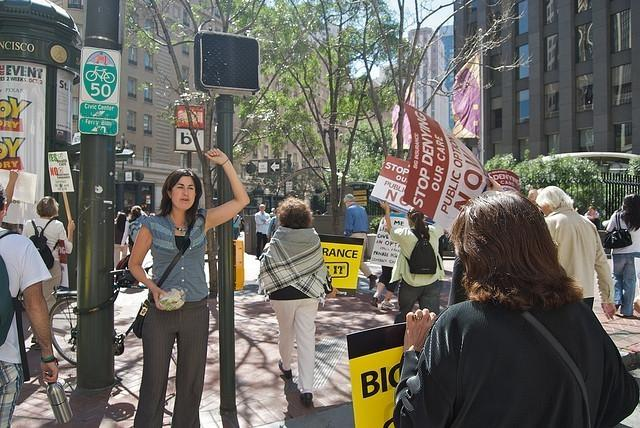bicycle: (50, 286, 178, 368)
